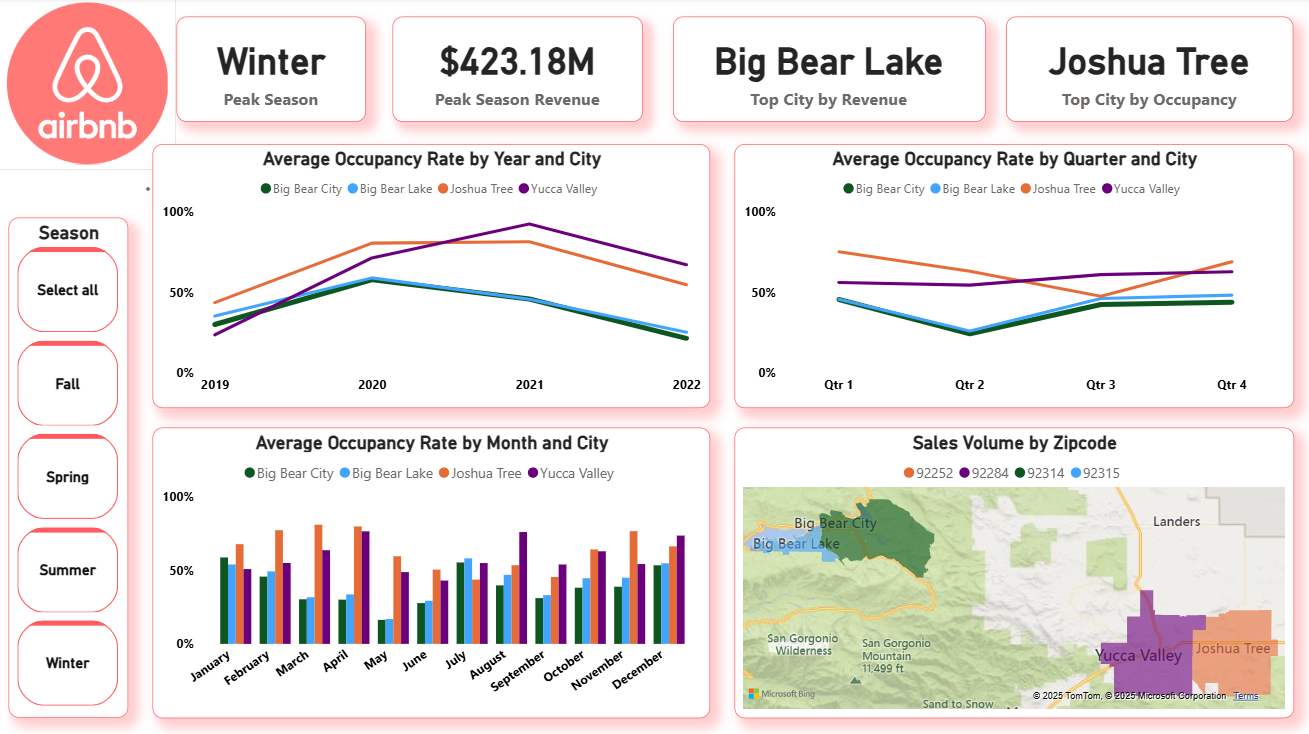

What the dashboard file says about the page in this screenshot:
{"tool":"powerbi","page":{"name":"Seasonal/regional trends","canvas":[1280,720],"ordinal":1},"visuals":[{"type":"image","box":[0,0,174.1,168.1],"z":0},{"type":"card","fields":{"Values":["Final_552 Codar_final_cleaned_d.Peak Season"]},"box":[174.1,19.7,184.7,103],"z":1000},{"type":"card","fields":{"Values":["Final_552 Codar_final_cleaned_d.Top City"]},"box":[657.2,19.7,304.4,103],"z":3000},{"type":"card","fields":{"Values":["Final_552 Codar_final_cleaned_d.Top City by Occupancy"]},"box":[982.7,19.7,280.1,103],"z":4000},{"type":"card","fields":{"Values":["Final_552 Codar_final_cleaned_d.PeakSeasonRevenue"]},"box":[384.6,19.7,243.8,103],"z":5000},{"type":"advancedSlicerVisual","fields":{"Values":["Final_552 Codar_final_cleaned_d.Season"]},"box":[10.6,215,116.6,487.6],"z":6000},{"type":"lineChart","title":"Average Occupancy Rate by Year and City","fields":{"Category":["Final_552 Codar_final_cleaned_d.month.Variation.Date Hierarchy.Year"],"Y":["Final_552 Codar_final_cleaned_d.Average occupancy rate"],"Series":["Final_552 Codar_final_cleaned_d.city"]},"box":[149.9,143.8,543.6,257.4],"z":7000},{"type":"lineChart","title":"Average Occupancy Rate by Quarter and City","fields":{"Y":["Final_552 Codar_final_cleaned_d.Average occupancy rate"],"Series":["Final_552 Codar_final_cleaned_d.city"],"Category":["Final_552 Codar_final_cleaned_d.month.Variation.Date Hierarchy.Quarter"]},"box":[717.7,143.8,545.1,257.4],"z":8000},{"type":"clusteredColumnChart","title":"Average Occupancy Rate by Month and City","fields":{"Category":["Final_552 Codar_final_cleaned_d.month.Variation.Date Hierarchy.Month"],"Y":["Final_552 Codar_final_cleaned_d.Average occupancy rate"],"Series":["Final_552 Codar_final_cleaned_d.city"]},"box":[149.9,419.4,543.6,283.2],"z":9000},{"type":"filledMap","title":"Sales Volume by Zipcode","fields":{"Category":["Final_552 Codar_final_cleaned_d.city"],"Series":["Final_552 Codar_final_cleaned_d.zipcode"]},"box":[717.7,419.4,545.1,283.2],"z":10000}]}

Visuals, with their boxes in screenshot pixels (x1, y1, x2, y2), scaled from the page's 1280x720 canvas onto the 1309x734 screenshot:
image: left=0, top=0, right=178, bottom=171
card - Final_552 Codar_final_cleaned_d.Peak Season: left=178, top=20, right=367, bottom=125
card - Final_552 Codar_final_cleaned_d.Top City: left=672, top=20, right=983, bottom=125
card - Final_552 Codar_final_cleaned_d.Top City by Occupancy: left=1005, top=20, right=1291, bottom=125
card - Final_552 Codar_final_cleaned_d.PeakSeasonRevenue: left=393, top=20, right=643, bottom=125
advancedSlicerVisual - Final_552 Codar_final_cleaned_d.Season: left=11, top=219, right=130, bottom=716
"Average Occupancy Rate by Year and City" lineChart: left=153, top=147, right=709, bottom=409
"Average Occupancy Rate by Quarter and City" lineChart: left=734, top=147, right=1291, bottom=409
"Average Occupancy Rate by Month and City" clusteredColumnChart: left=153, top=428, right=709, bottom=716
"Sales Volume by Zipcode" filledMap: left=734, top=428, right=1291, bottom=716
